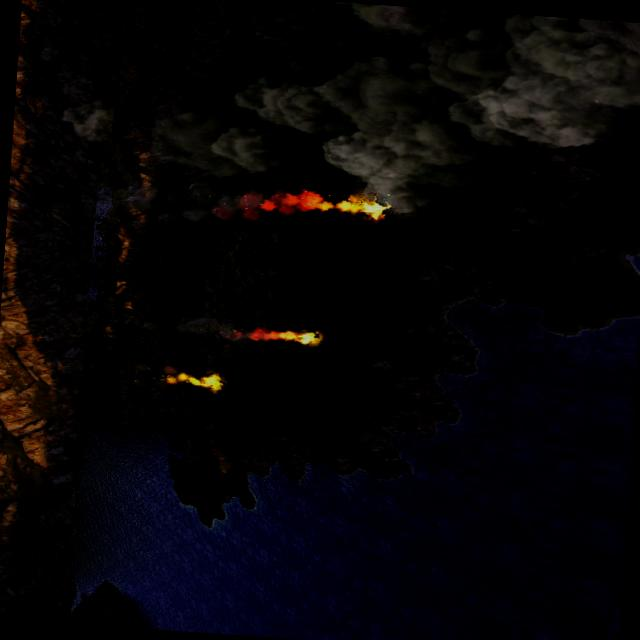fire: (251, 323, 318, 346), (163, 368, 222, 390), (342, 195, 388, 221)
smoke: (93, 0, 640, 252), (121, 311, 284, 348), (56, 97, 142, 145)
